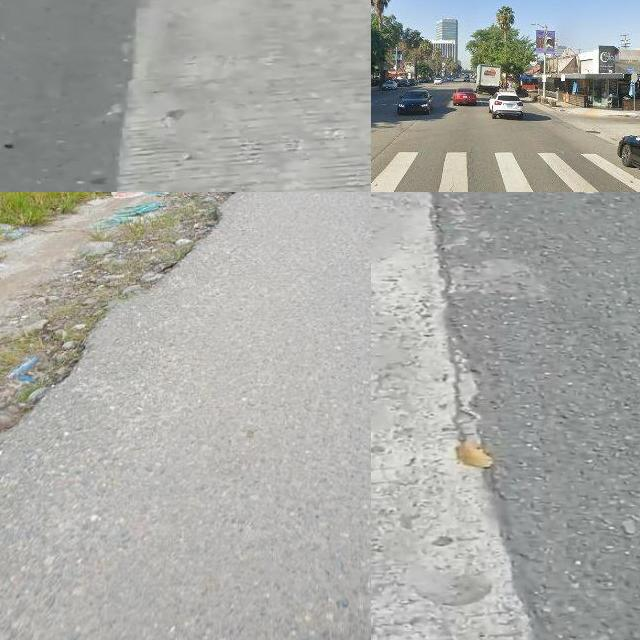Pinggir: (0, 192, 287, 503)
Sambungan: (371, 192, 535, 640), (116, 0, 371, 192)
